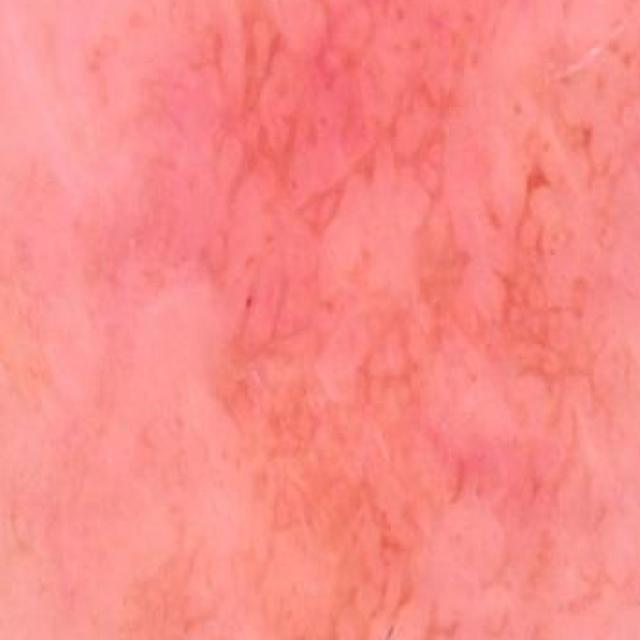NV: (132, 0, 598, 538)
